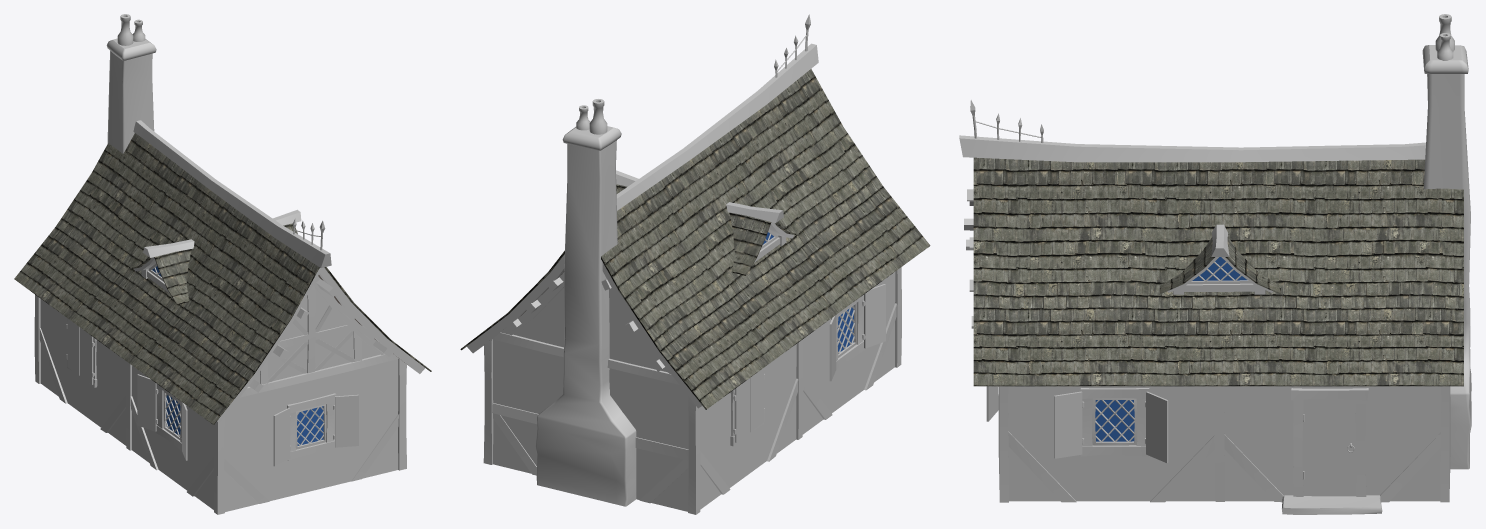
File: mw_type_1_cottage_01.FBX
3 renders of one model, left to right at view 1: azimuth 30°, elevation 25°; view 2: azimuth 150°, elevation 25°; view 3: azimuth 270°, elevation 25°, orthographic. The views are drawn at different scales.
Parts seen in each view (by area): view 1: mw_type_1_cottage_02_roof, mw_type_1_cottage_01_stone, mw_type_1_cottage_01_wood, mw_type_1_cottage_01; view 2: mw_type_1_cottage_02_roof, mw_type_1_cottage_01_stone, mw_type_1_cottage_01_wood, mw_type_1_cottage_01; view 3: mw_type_1_cottage_02_roof, mw_type_1_cottage_01_stone, mw_type_1_cottage_01_wood, mw_type_1_cottage_01.
Part boxes in pixels (x1,y1,x2,y2): mw_type_1_cottage_02_roof: [14, 133, 431, 424]; mw_type_1_cottage_01_stone: [40, 14, 398, 511]; mw_type_1_cottage_01_wood: [34, 120, 424, 514]; mw_type_1_cottage_01: [66, 219, 358, 466]; mw_type_1_cottage_02_roof: [460, 69, 930, 409]; mw_type_1_cottage_01_stone: [493, 99, 895, 511]; mw_type_1_cottage_01_wood: [467, 43, 901, 514]; mw_type_1_cottage_01: [733, 14, 885, 442]; mw_type_1_cottage_02_roof: [973, 157, 1463, 386]; mw_type_1_cottage_01_stone: [1008, 14, 1471, 514]; mw_type_1_cottage_01_wood: [959, 135, 1450, 502]; mw_type_1_cottage_01: [970, 100, 1356, 496].
Bounding box in the file's own units: 735 × 1077 × 1175.
